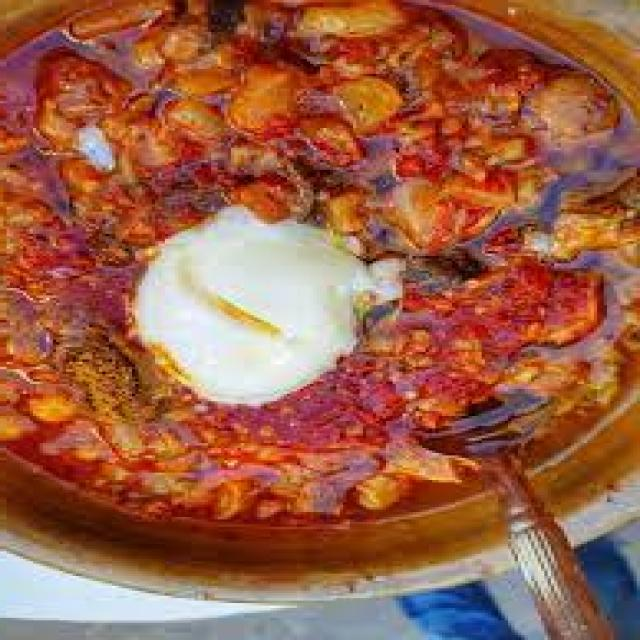Lablabi: (7, 44, 610, 598)
